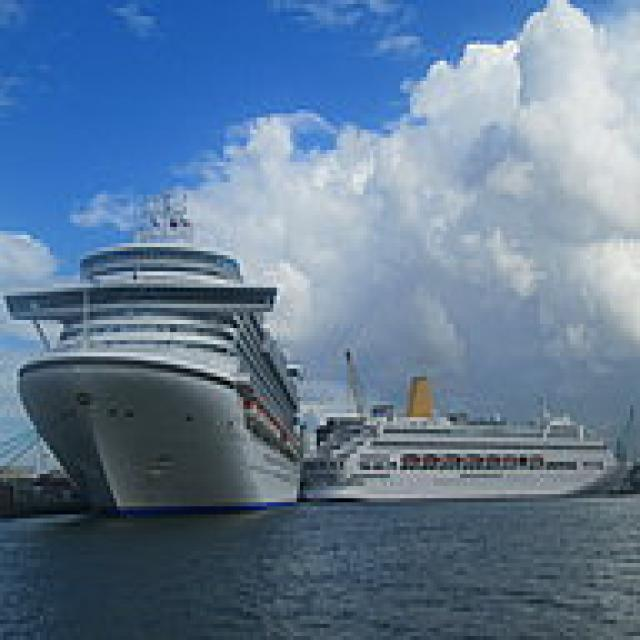Cruise: (3, 182, 314, 514), (297, 344, 640, 502)
